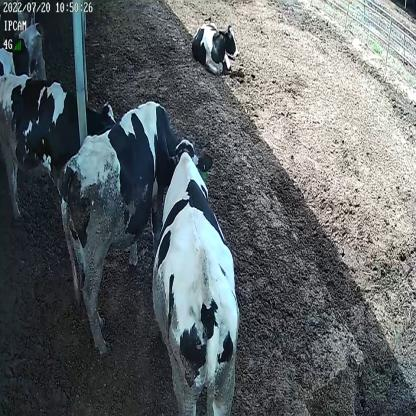cow: (58, 103, 187, 353), (150, 138, 242, 414), (0, 71, 120, 223), (191, 16, 240, 77)
